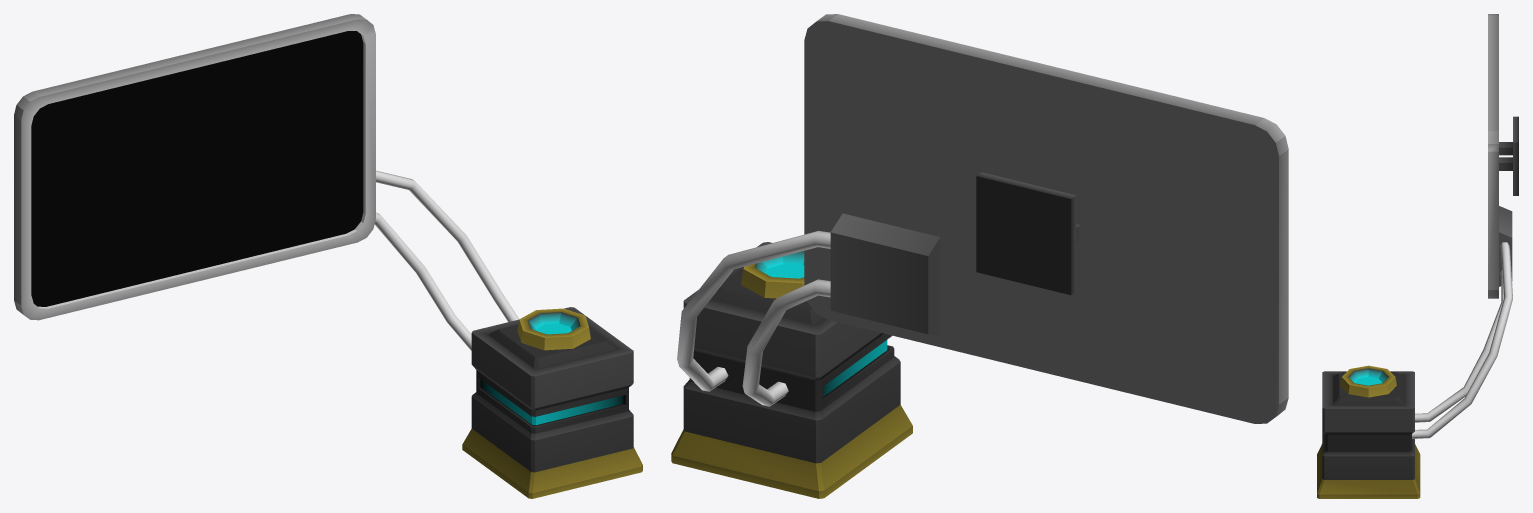
File: terminal.fbx
3 renders of one model, left to right at view 1: azimuth 30°, elevation 25°; view 2: azimuth 150°, elevation 25°; view 3: azimuth 270°, elevation 25°, orthographic. The views are drawn at different scales.
Parts seen in each view (by area): view 1: monitor, hologram pedestal, cable 2, cable 1; view 2: monitor, hologram pedestal, block, cable 2, cable 1; view 3: hologram pedestal, monitor, cable 2, cable 1, block.
Boxes of the visible parts, left/top/right/bottom form: monitor: left=14, top=14, right=375, bottom=320; hologram pedestal: left=462, top=307, right=642, bottom=498; cable 2: left=376, top=170, right=519, bottom=321; cable 1: left=374, top=212, right=471, bottom=350; monitor: left=804, top=14, right=1288, bottom=423; hologram pedestal: left=671, top=242, right=912, bottom=498; block: left=830, top=213, right=940, bottom=335; cable 2: left=677, top=231, right=830, bottom=391; cable 1: left=742, top=279, right=830, bottom=406; hologram pedestal: left=1317, top=365, right=1420, bottom=498; monitor: left=1488, top=14, right=1518, bottom=298; cable 2: left=1412, top=242, right=1512, bottom=438; cable 1: left=1415, top=270, right=1503, bottom=422; block: left=1499, top=206, right=1512, bottom=286.
Size of the model in its own units: 287 by 221 by 132.
